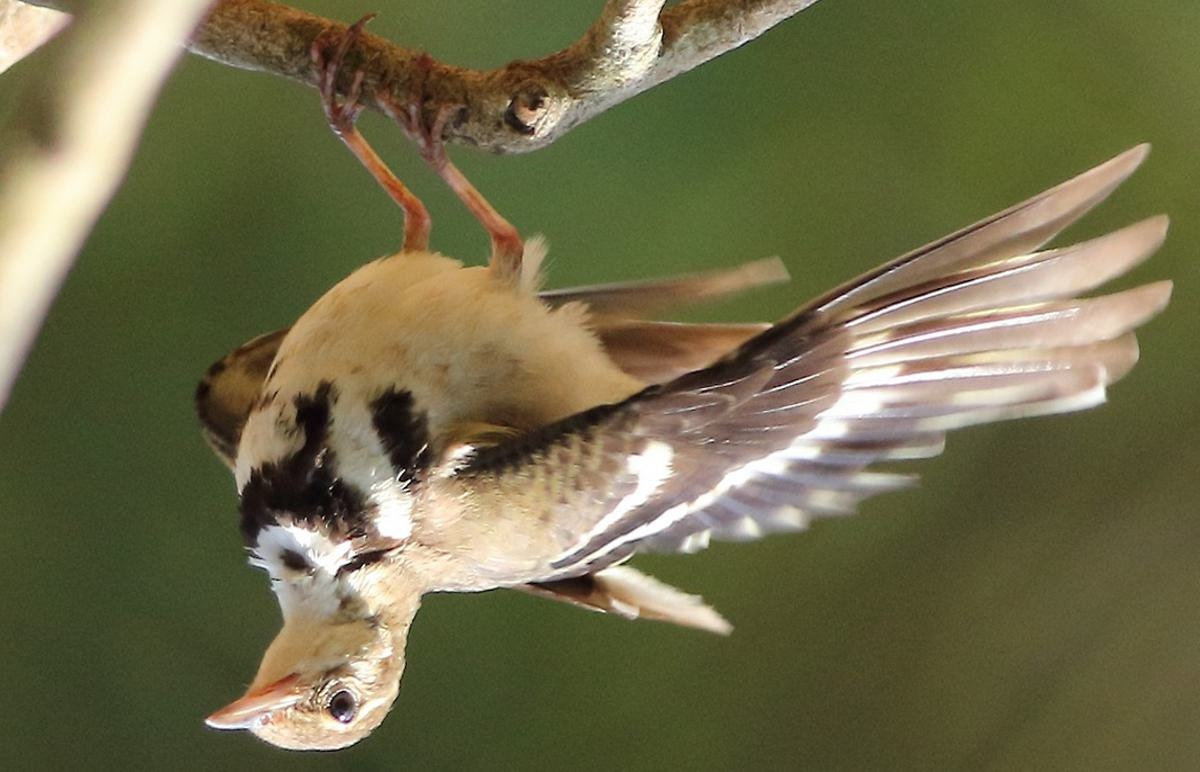wagtail: (195, 250, 909, 741)
